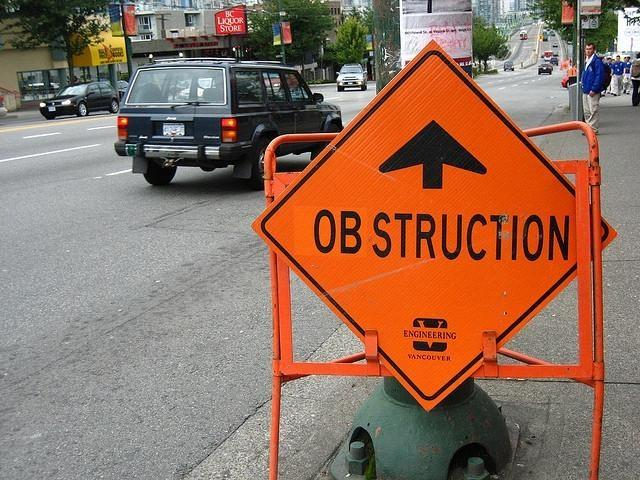car: (115, 59, 346, 190), (41, 82, 120, 121), (336, 64, 368, 92), (538, 64, 554, 75), (504, 62, 514, 72), (550, 55, 558, 66), (552, 42, 558, 47), (550, 31, 555, 36), (541, 53, 544, 58)
truck: (112, 58, 344, 188), (401, 0, 472, 78), (504, 61, 514, 72), (544, 52, 553, 60)
